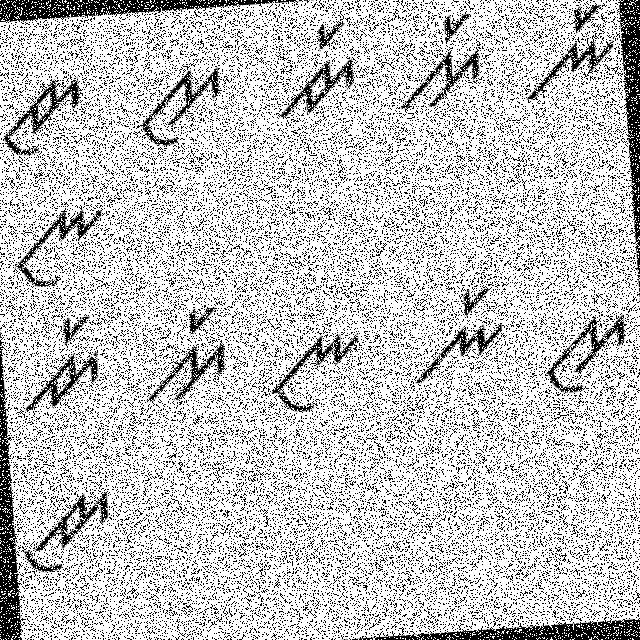jar: (16, 310, 106, 421), (270, 18, 364, 122)
jaw: (12, 479, 118, 575), (0, 67, 89, 166)
nyar: (405, 280, 515, 390), (519, 0, 621, 106)
nyaw: (259, 320, 370, 421), (1, 196, 108, 297)
sar: (140, 296, 233, 406), (391, 10, 486, 114)
saw: (528, 300, 630, 400), (121, 67, 232, 152)
